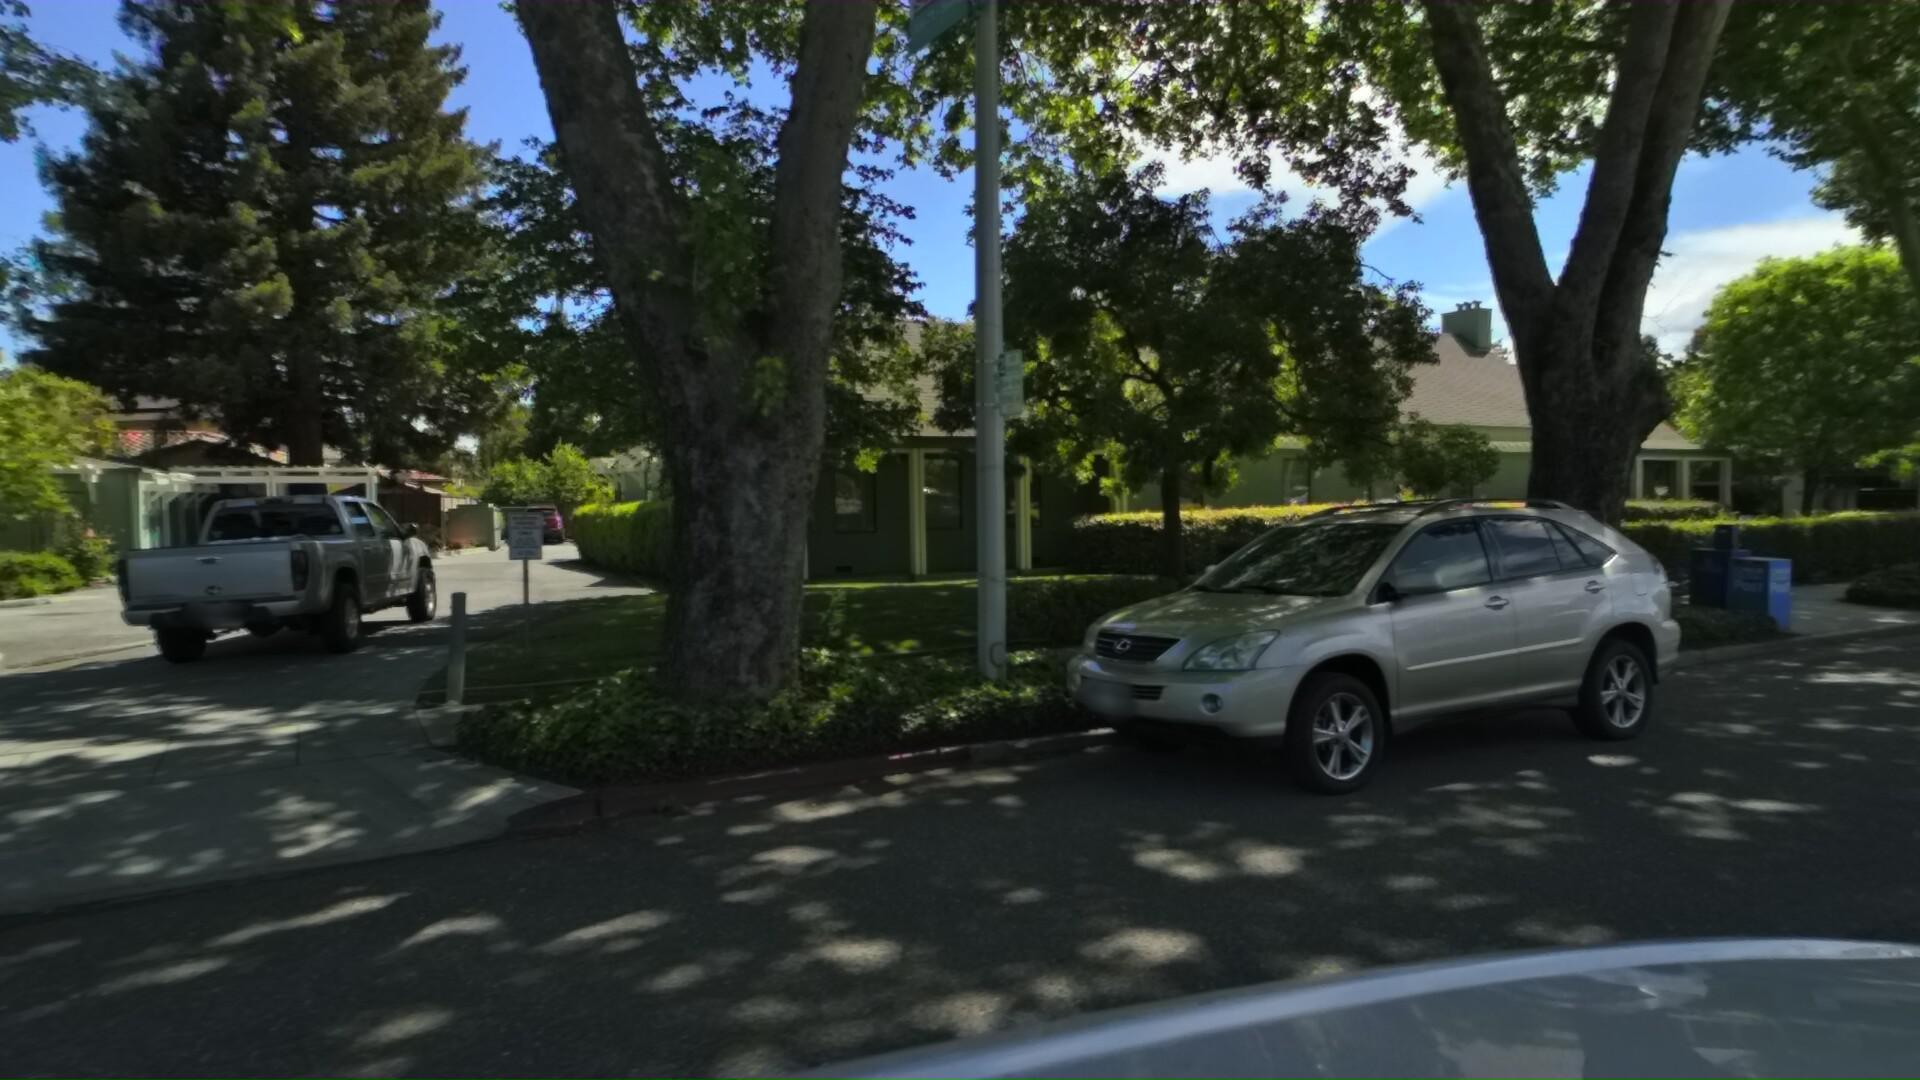car: (1054, 487, 1760, 839), (160, 476, 487, 684)
